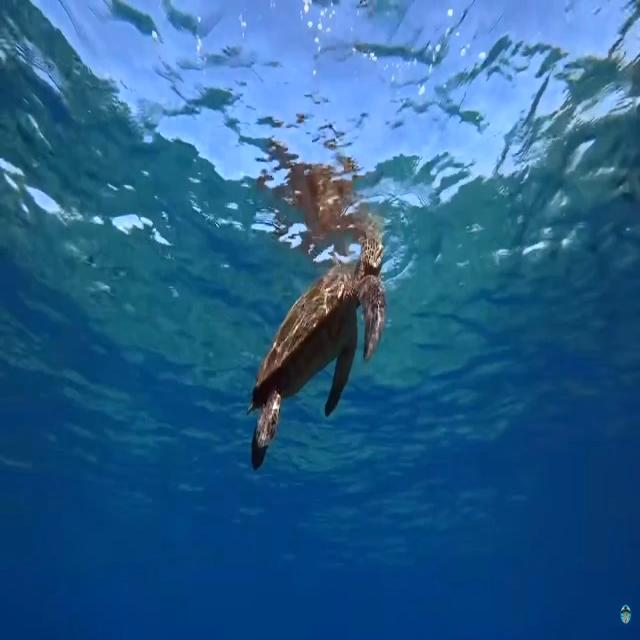Sea turtle: (247, 241, 388, 470)
